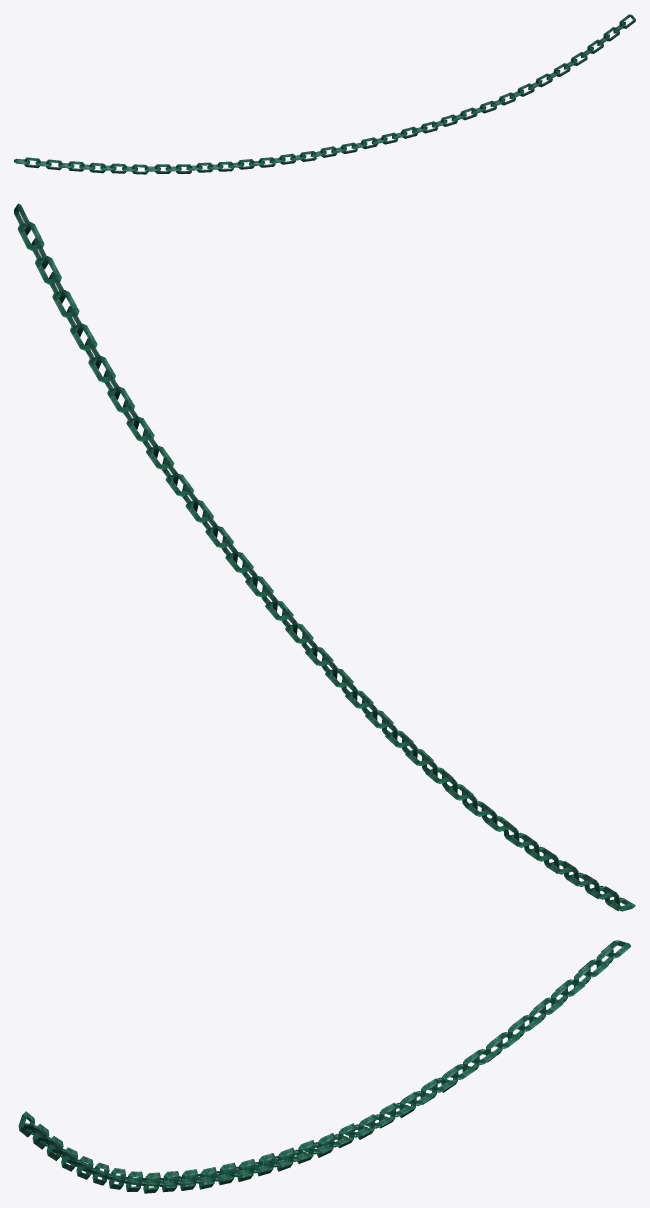
The model's file is 5st_chain_004.fbx.
3 views of the same model, one above another, from view 1: azimuth 30°, elevation 25°; view 2: azimuth 150°, elevation 25°; view 3: azimuth 270°, elevation 25° (orthographic). The views are drawn at different scales.
Parts seen in each view (by area): view 1: 5st_chain_04; view 2: 5st_chain_04; view 3: 5st_chain_04.
Part boxes in pixels (x1,y1,x2,y2): 5st_chain_04: (14,14,635,174); 5st_chain_04: (14,203,635,911); 5st_chain_04: (18,940,631,1193).
Size of the model in its own units: 38.02 by 11.94 by 21.37.
